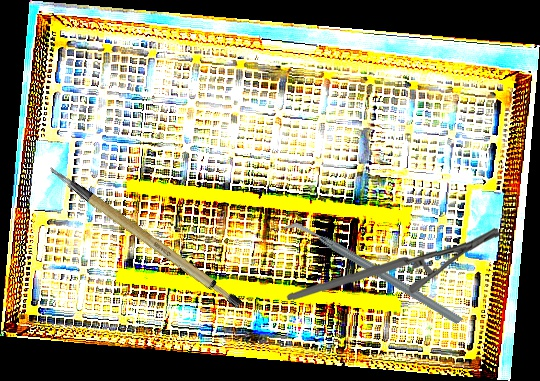Chopper: (282, 173, 464, 374)
Needle Holder: (285, 219, 503, 308)
Scalpel Handle: (46, 137, 246, 333)
